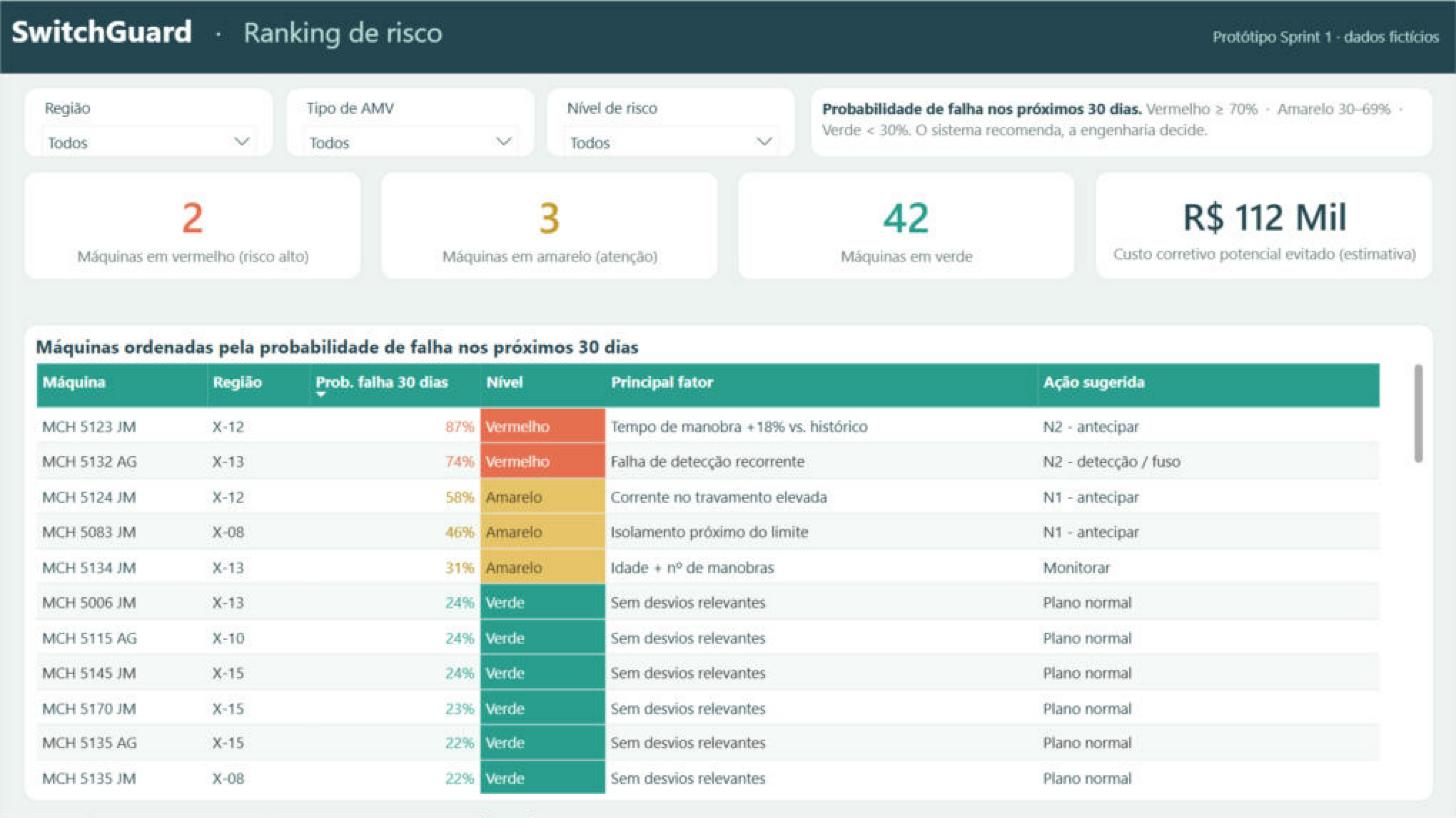

This screenshot's page, from the dashboard's own definition file:
{"tool":"powerbi","page":{"name":"Ranking de risco","canvas":[1280,720],"ordinal":0},"visuals":[{"type":"textbox","box":[0,0,1280,64],"z":1000},{"type":"textbox","box":[880,16,390,36],"z":2000},{"type":"slicer","fields":{"Values":["maquinas.regiao"]},"box":[20,76,220,62],"z":3000},{"type":"slicer","fields":{"Values":["maquinas.tipo_amv"]},"box":[250,76,220,62],"z":4000},{"type":"slicer","fields":{"Values":["maquinas.nivel"]},"box":[480,76,220,62],"z":5000},{"type":"textbox","box":[712,76,548,62],"z":6000},{"type":"card","fields":{"Values":["maquinas.Qtd Vermelho"]},"box":[20,150,297,96],"z":7000},{"type":"card","fields":{"Values":["maquinas.Qtd Amarelo"]},"box":[334,150,297,96],"z":8000},{"type":"card","fields":{"Values":["maquinas.Qtd Verde"]},"box":[648,150,297,96],"z":9000},{"type":"card","fields":{"Values":["maquinas.Custo corretivo evitado"]},"box":[962,150,297,96],"z":10000},{"type":"tableEx","title":"Máquinas ordenadas pela probabilidade de falha nos próximos 30 dias","fields":{"Values":["maquinas.maquina","maquinas.regiao","maquinas.prob","maquinas.nivel","maquinas.principal_fator","maquinas.acao_sugerida"]},"box":[20.1,284.6,1240.2,420.1],"z":11000}]}

Visuals, with their boxes in screenshot pixels (x1, y1, x2, y2), scaled from the page's 1280x720 canvas onto the 1456x818 screenshot:
textbox: <box>0,0,1455,73</box>
textbox: <box>1001,18,1445,59</box>
slicer - maquinas.regiao: <box>23,86,273,157</box>
slicer - maquinas.tipo_amv: <box>284,86,535,157</box>
slicer - maquinas.nivel: <box>546,86,796,157</box>
textbox: <box>810,86,1433,157</box>
card - maquinas.Qtd Vermelho: <box>23,170,361,279</box>
card - maquinas.Qtd Amarelo: <box>380,170,718,279</box>
card - maquinas.Qtd Verde: <box>737,170,1075,279</box>
card - maquinas.Custo corretivo evitado: <box>1094,170,1432,279</box>
"Máquinas ordenadas pela probabilidade de falha nos próximos 30 dias" tableEx: <box>23,323,1434,801</box>
